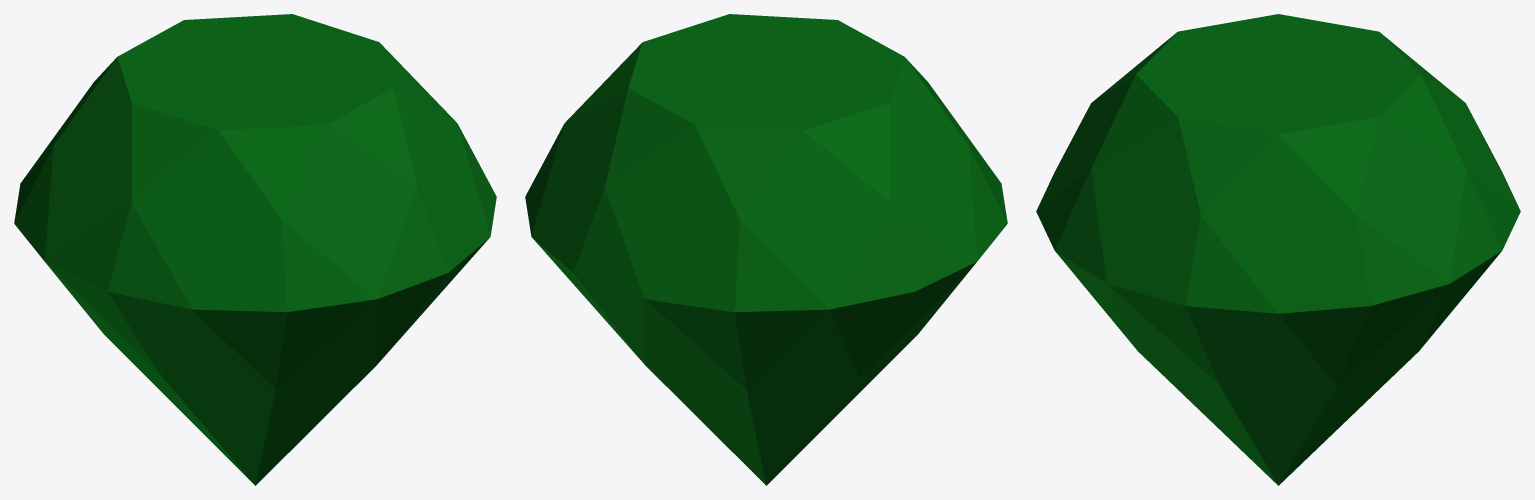
File: EV_ChaosEmerald.obj
3 renders of one model, left to right at view 1: azimuth 30°, elevation 25°; view 2: azimuth 150°, elevation 25°; view 3: azimuth 270°, elevation 25°, orthographic.
Parts seen in each view (by area): view 1: EV_ChaosEmerald; view 2: EV_ChaosEmerald; view 3: EV_ChaosEmerald.
Part boxes in pixels (bbox=[...]): EV_ChaosEmerald: bbox=[14, 14, 496, 485]; EV_ChaosEmerald: bbox=[525, 14, 1007, 485]; EV_ChaosEmerald: bbox=[1036, 14, 1520, 485].
Size of the model in its own units: 1.6 by 1.5 by 1.6.
